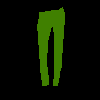jeans: (37, 6, 65, 86)
